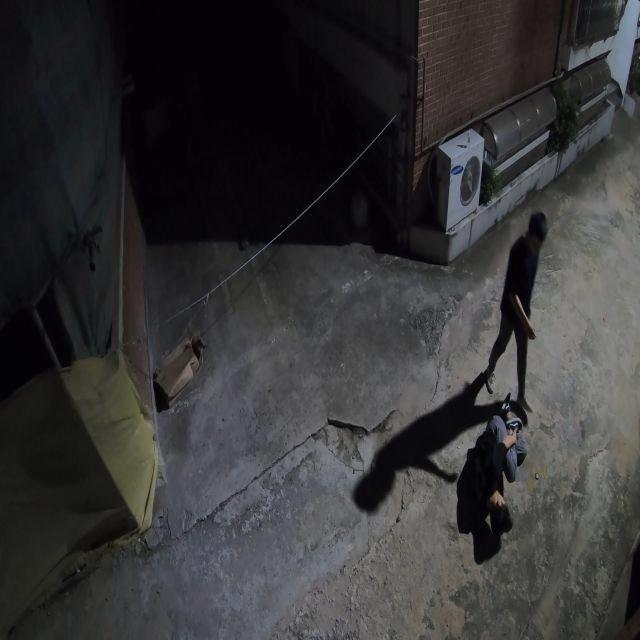fight: (456, 208, 544, 544)
